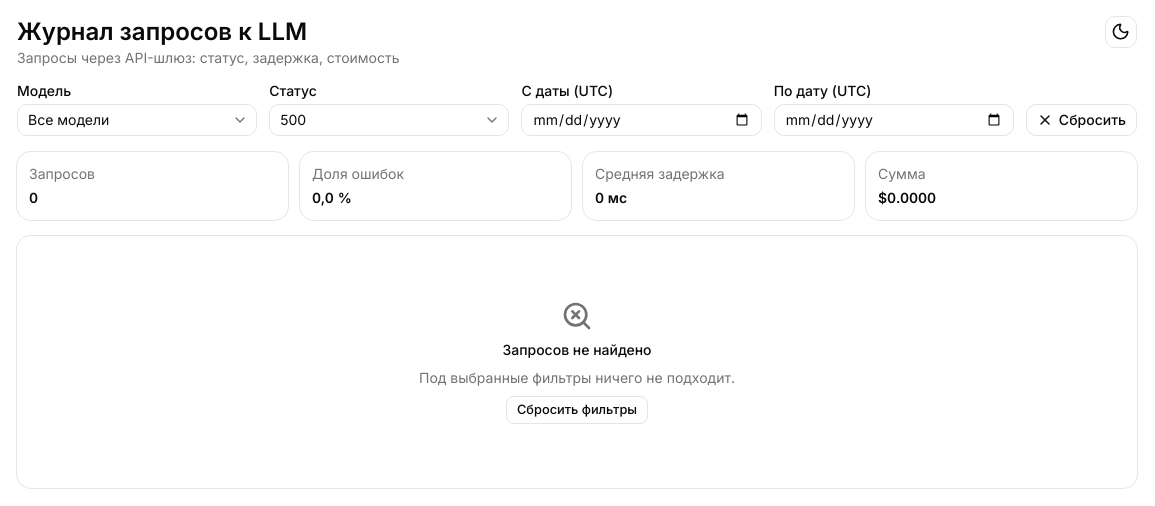
LogPage › применяет фильтры из URL, показывает пустое состояние и сбрасывает их
Check: the text "Запросов не найдено" is shown, box [502,340,652,360]
What coordinates should you click on to do the following:
click the button "Сбросить фильтры"
I would click on:
 (577, 410)
Its box is [506,396,648,424].
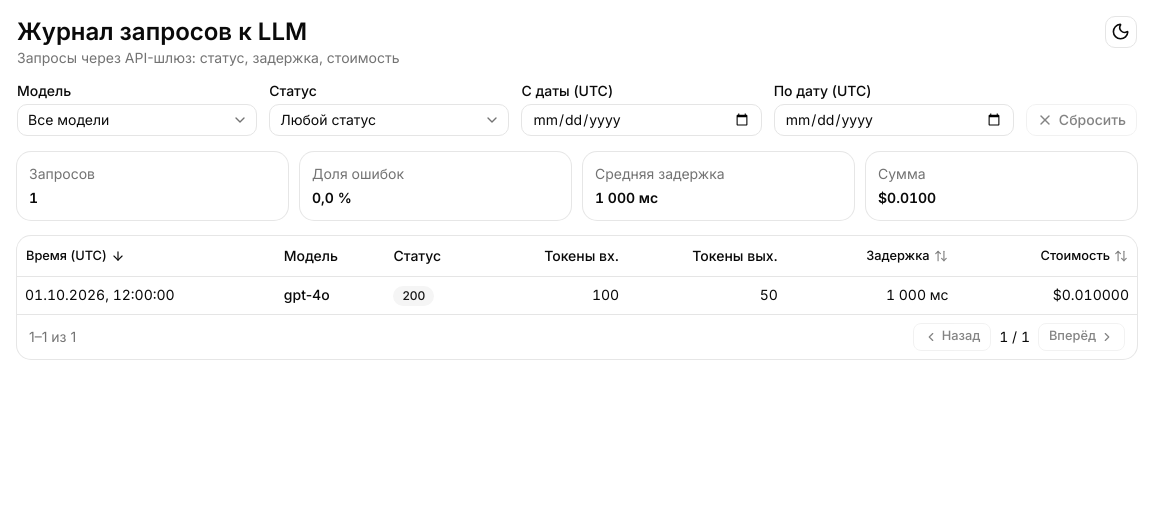
Check: the text "gpt-4o" is shown, box [276,276,386,314]
